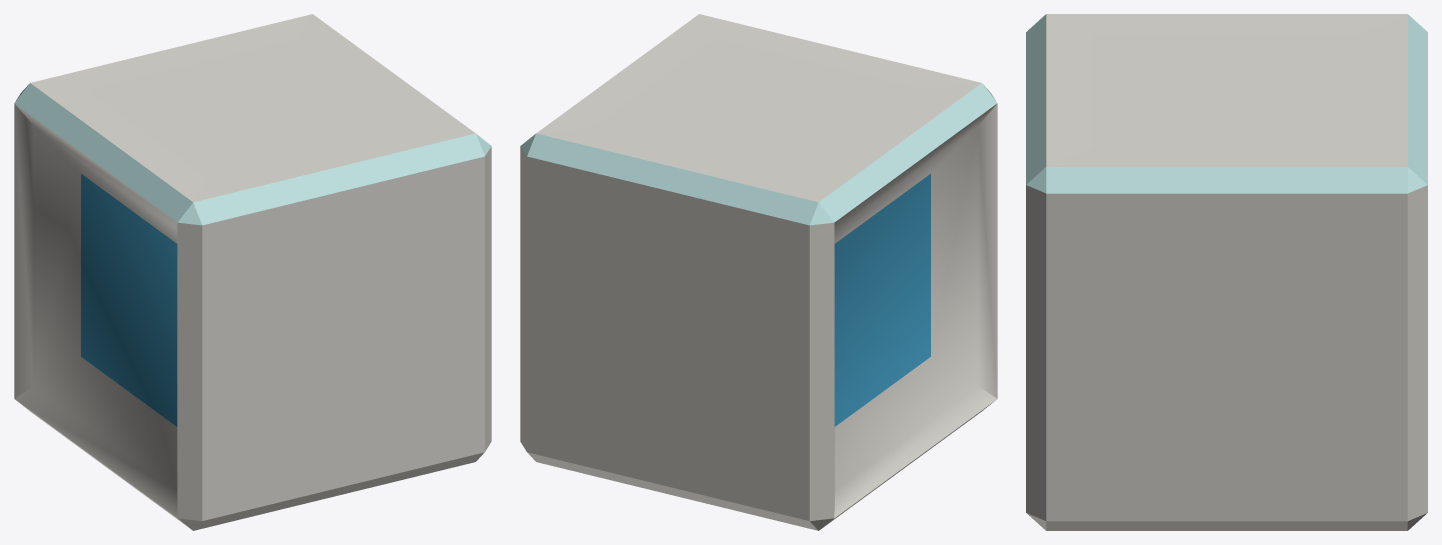
Rendered from UNIT.fbx.
3 views of the same model, side by side, from view 1: azimuth 30°, elevation 25°; view 2: azimuth 150°, elevation 25°; view 3: azimuth 270°, elevation 25° (orthographic). The views are drawn at different scales.
Visible parts, largest first — view 1: UNIT; view 2: UNIT; view 3: UNIT.
Part boxes in pixels (x1=…): UNIT: x1=14, y1=14, x2=491, y2=530; UNIT: x1=520, y1=14, x2=997, y2=530; UNIT: x1=1026, y1=14, x2=1427, y2=530.
Size of the model in its own units: 7.61 by 7.61 by 7.61.
